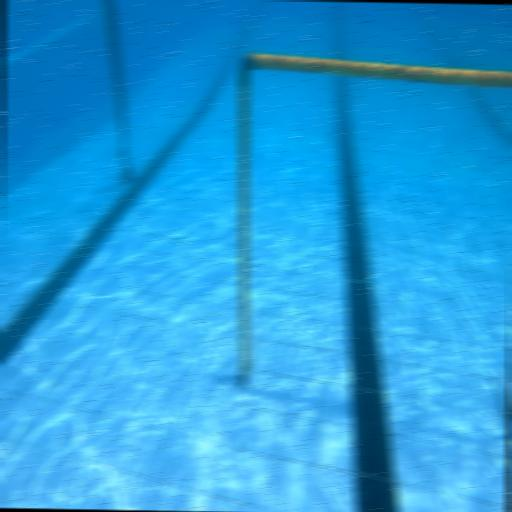gate: (231, 51, 512, 430)
